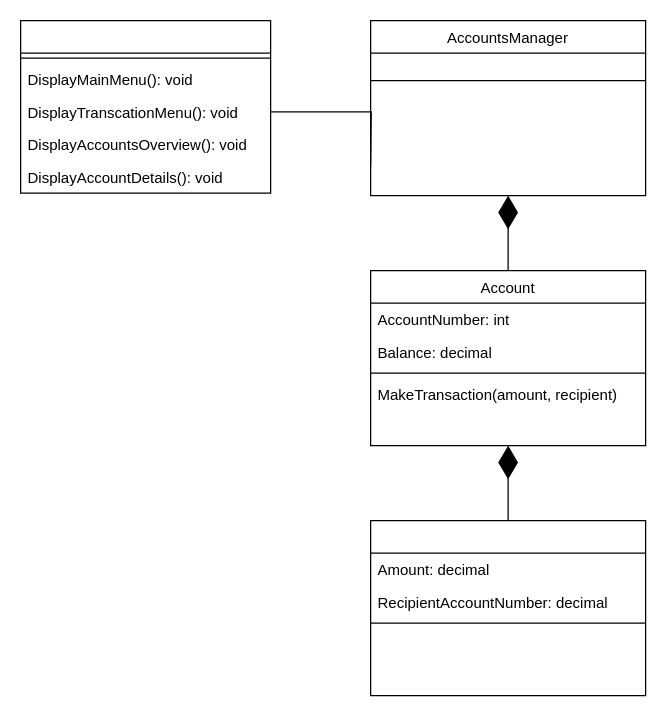
The diagram is 666 pixels wide and 716 high, and some of its shapes have lost their labels. The shapes that lost their labels are listed below. From the top down, each one's box as (x1, y1, x2, y2) in pixels, then its label:
(19, 19, 271, 193): UserInterface
(369, 519, 646, 696): Transaction
